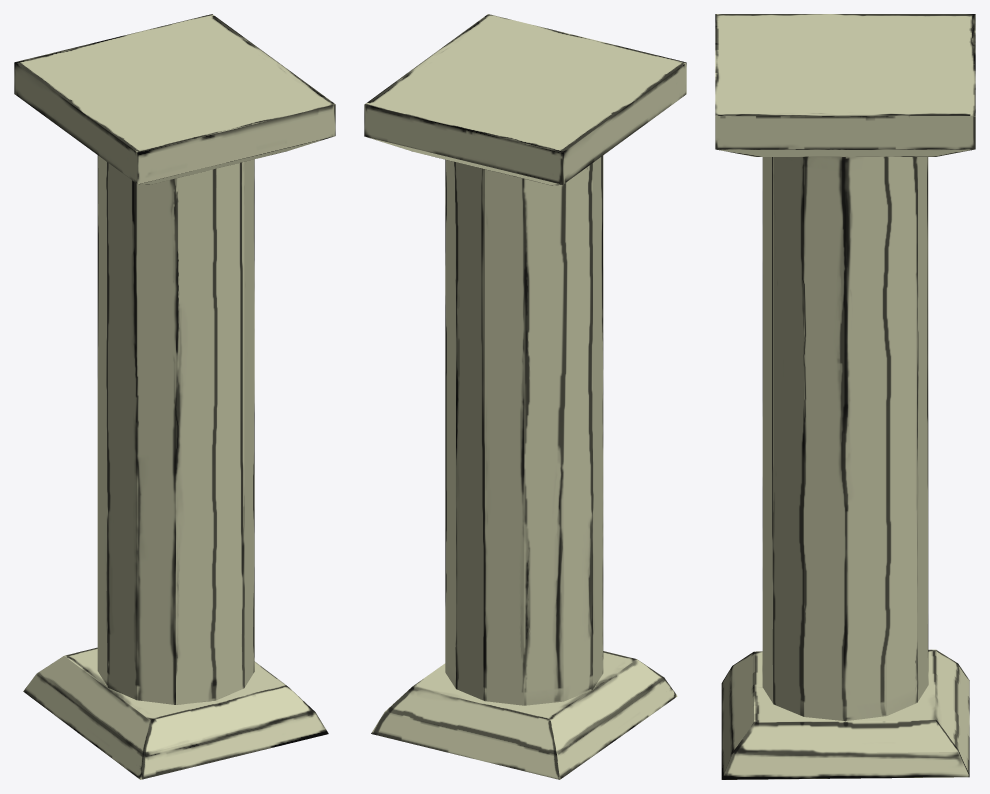
Rendered from pilar.fbx.
The picture shows the model from 3 angles, left to right: view 1: azimuth 30°, elevation 25°; view 2: azimuth 150°, elevation 25°; view 3: azimuth 270°, elevation 25°; orthographic projection. The views are drawn at different scales.
Visible parts, largest first — view 1: pilar; view 2: pilar; view 3: pilar.
Boxes of the visible parts, left/top/right/bottom form: pilar: left=14, top=14, right=335, bottom=779; pilar: left=364, top=14, right=686, bottom=779; pilar: left=715, top=14, right=975, bottom=779.
Size of the model in its own units: 36.82 by 112 by 39.76.
